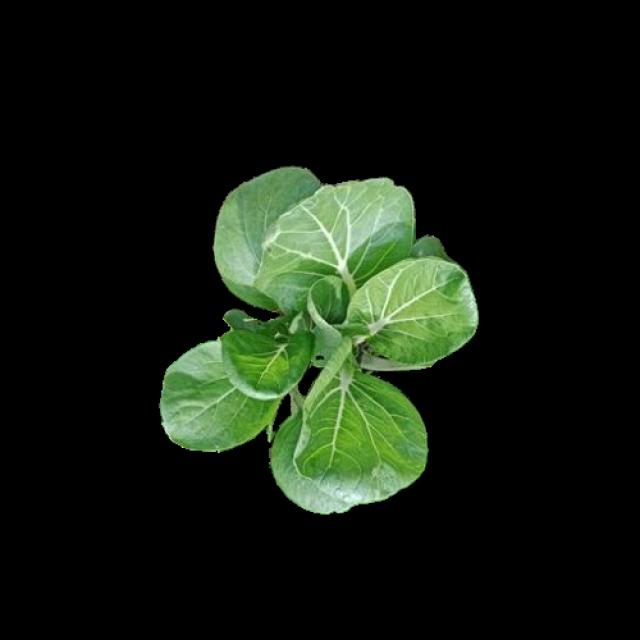healthy: (170, 179, 476, 513)
not-mature: (166, 168, 472, 502)
